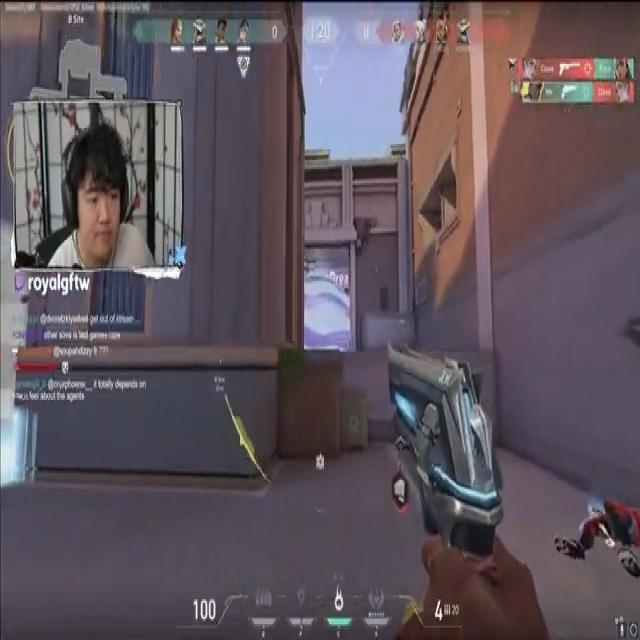smoke: (302, 262, 355, 350)
